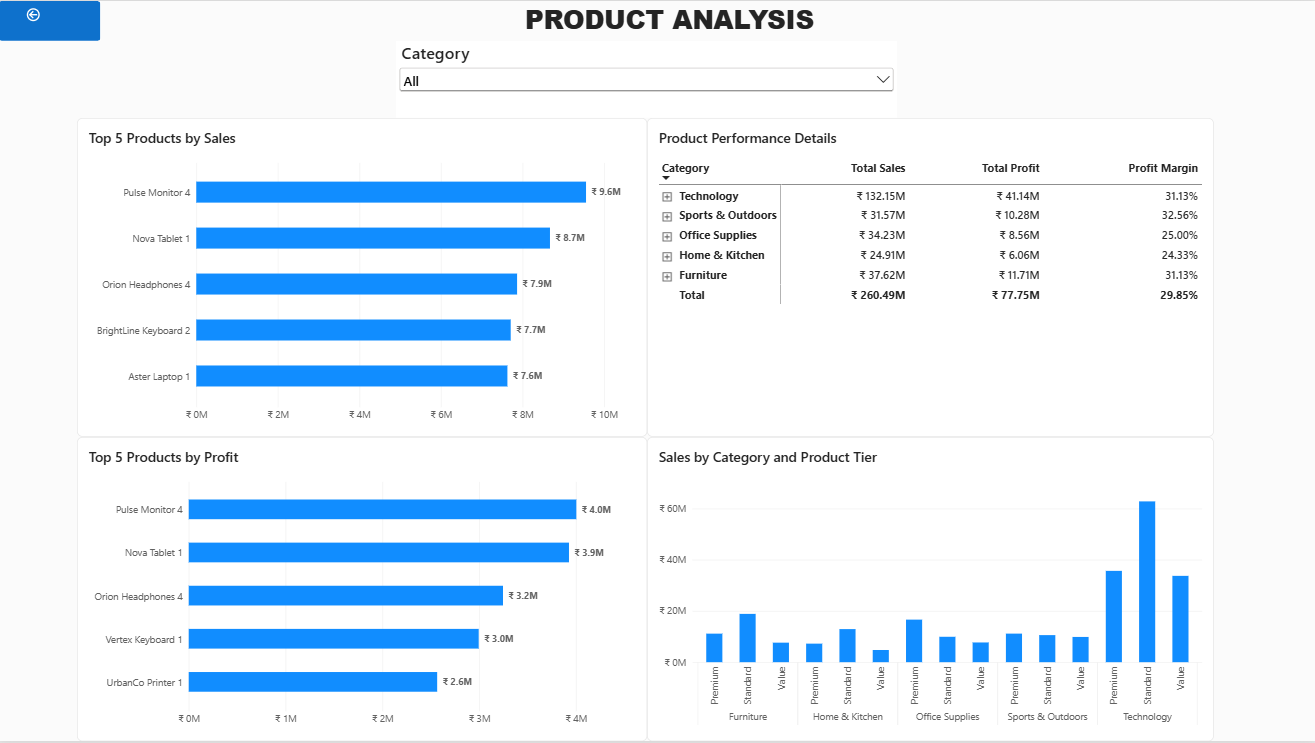

What the dashboard file says about the page in this screenshot:
{"tool":"powerbi","page":{"name":"Product Analysis","canvas":[1920,1080],"ordinal":1},"visuals":[{"type":"clusteredBarChart","title":"Top 5 Products by Sales","fields":{"Category":["Products.ProductName"],"Y":["Orders.Total Sales"]},"box":[113.8,170.7,831.6,465.4],"z":0},{"type":"clusteredBarChart","title":"Top 5 Products by Profit","fields":{"Category":["Products.ProductName"],"Y":["Orders.Total Profit"]},"box":[113.8,636.1,831.6,443.5],"z":1000},{"type":"pivotTable","title":"Product Performance Details","fields":{"Rows":["Products.Category","Products.ProductName"],"Values":["Orders.Total Sales","Orders.Total Profit","Orders.Profit Margin"]},"box":[945.4,170.7,827.2,465.4],"z":2000},{"type":"slicer","fields":{"Values":["Products.Category"]},"box":[579.2,58.4,730.9,112.3],"z":3000},{"type":"clusteredColumnChart","title":"Sales by Category and Product Tier","fields":{"Category":["Products.Category","Products.ProductTier"],"Y":["Orders.Total Sales"]},"box":[945.4,636.1,827.2,443.5],"z":4000},{"type":"textbox","box":[579.2,0,798.1,58.4],"z":5000},{"type":"actionButton","box":[0,0,148,58.4],"z":5001},{"type":"actionButton","box":[0,0,100,40],"z":5002}]}

Visuals, with their boxes in screenshot pixels (x1, y1, x2, y2), scaled from the page's 1920x1080 canvas onto the 1315x743 screenshot:
"Top 5 Products by Sales" clusteredBarChart: pyautogui.locateOnScreen(78, 117, 648, 438)
"Top 5 Products by Profit" clusteredBarChart: pyautogui.locateOnScreen(78, 438, 648, 742)
"Product Performance Details" pivotTable: pyautogui.locateOnScreen(648, 117, 1214, 438)
slicer - Products.Category: pyautogui.locateOnScreen(397, 40, 897, 117)
"Sales by Category and Product Tier" clusteredColumnChart: pyautogui.locateOnScreen(648, 438, 1214, 742)
textbox: pyautogui.locateOnScreen(397, 0, 943, 40)
actionButton: pyautogui.locateOnScreen(0, 0, 101, 40)
actionButton: pyautogui.locateOnScreen(0, 0, 68, 28)
